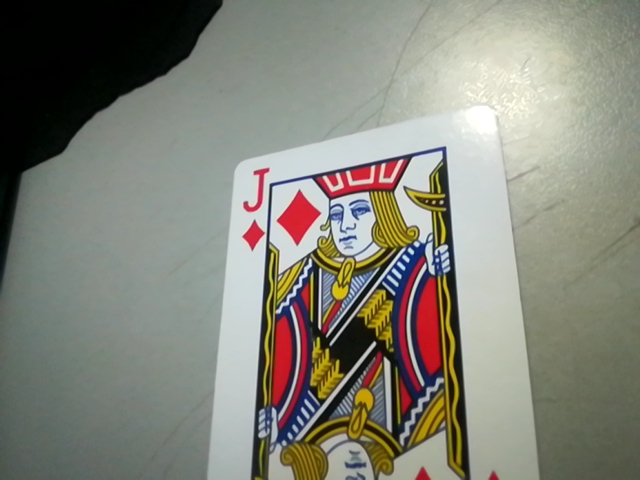fk j: (229, 162, 273, 253)
